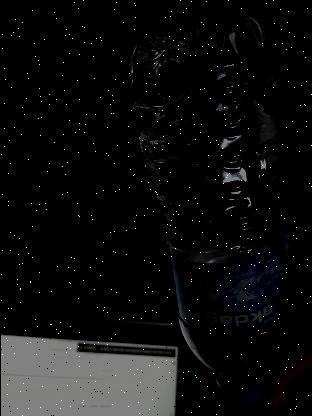Plastic Bottle: (125, 13, 293, 401)
